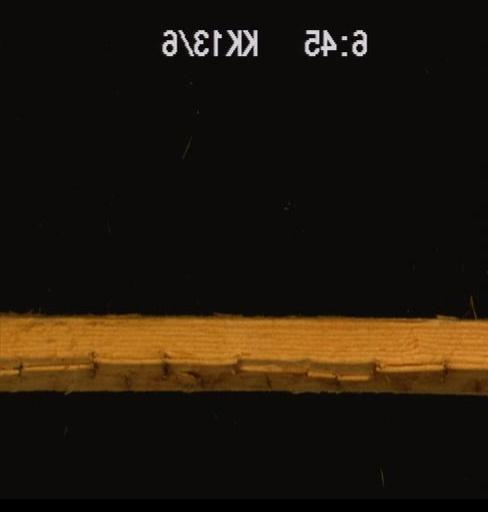wave: (0, 313, 486, 388)
